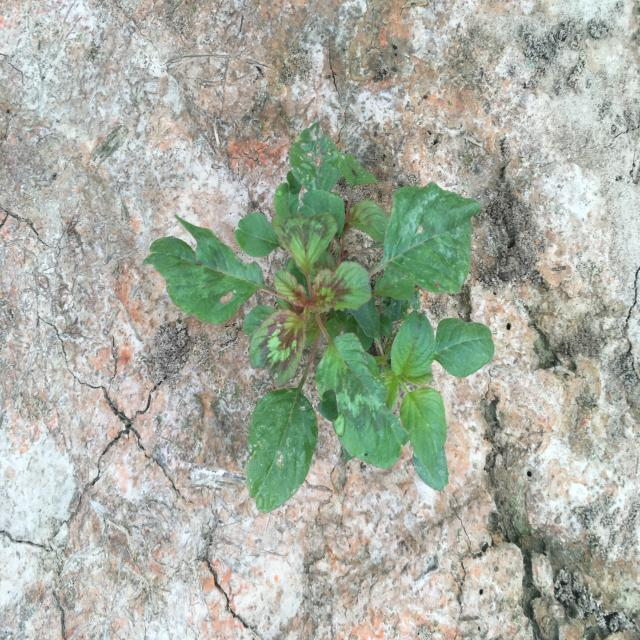PalmerAmaranth: (143, 118, 495, 514)
